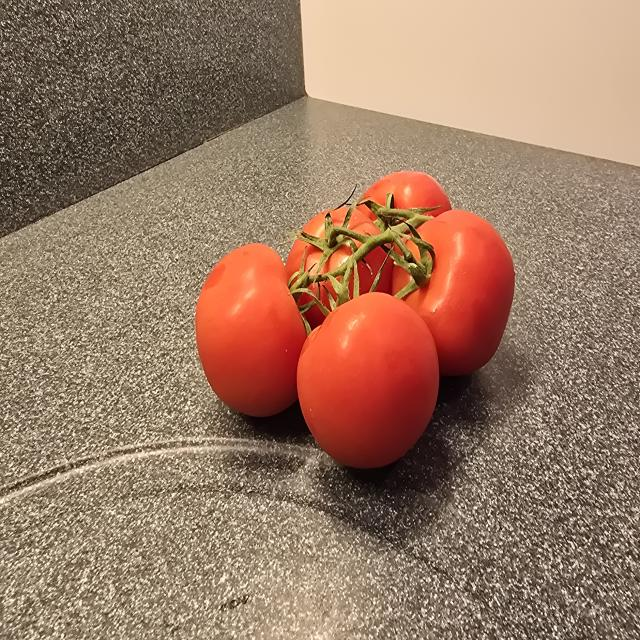Tomato: (297, 292, 439, 468), (392, 209, 515, 374), (195, 243, 307, 417)
